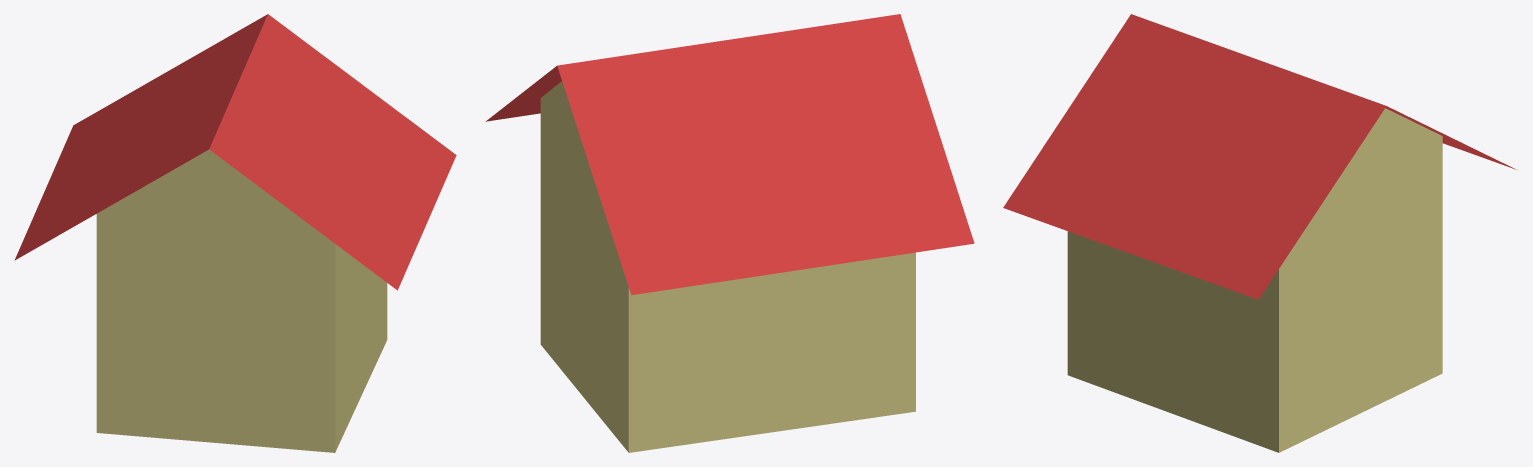
3 renders of one model, left to right at view 1: azimuth 30°, elevation 25°; view 2: azimuth 150°, elevation 25°; view 3: azimuth 270°, elevation 25°, orthographic. The views are drawn at different scales.
Bounding box in the file's own units: 21.13 × 20.83 × 13.96.
